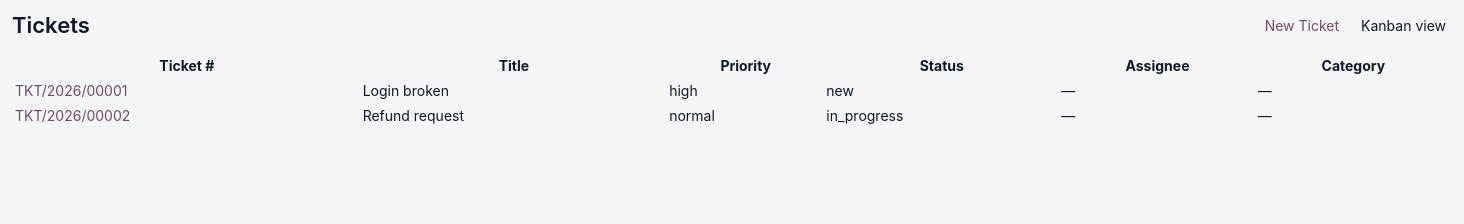
Scenario: TicketListPage › toggles between list and kanban view
Check: the text "Login broken" is shown, box x1=362 y1=78 x2=666 y2=102
Click the button "Kanban view": (1404,26) x1=1355 y1=16 x2=1452 y2=35
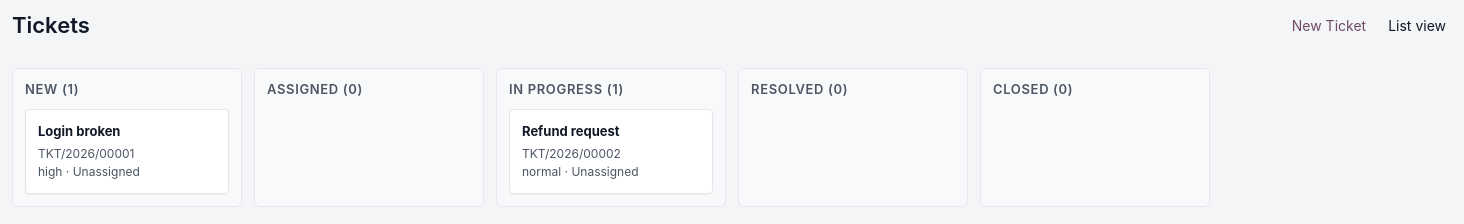
Check: the heading "In Progress (1)" is shown, box x1=509 y1=80 x2=624 y2=96
